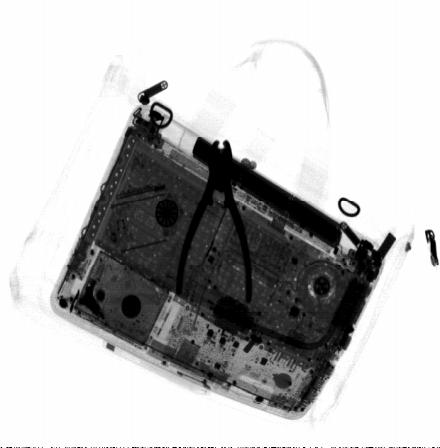Pliers: (176, 140, 254, 306)
